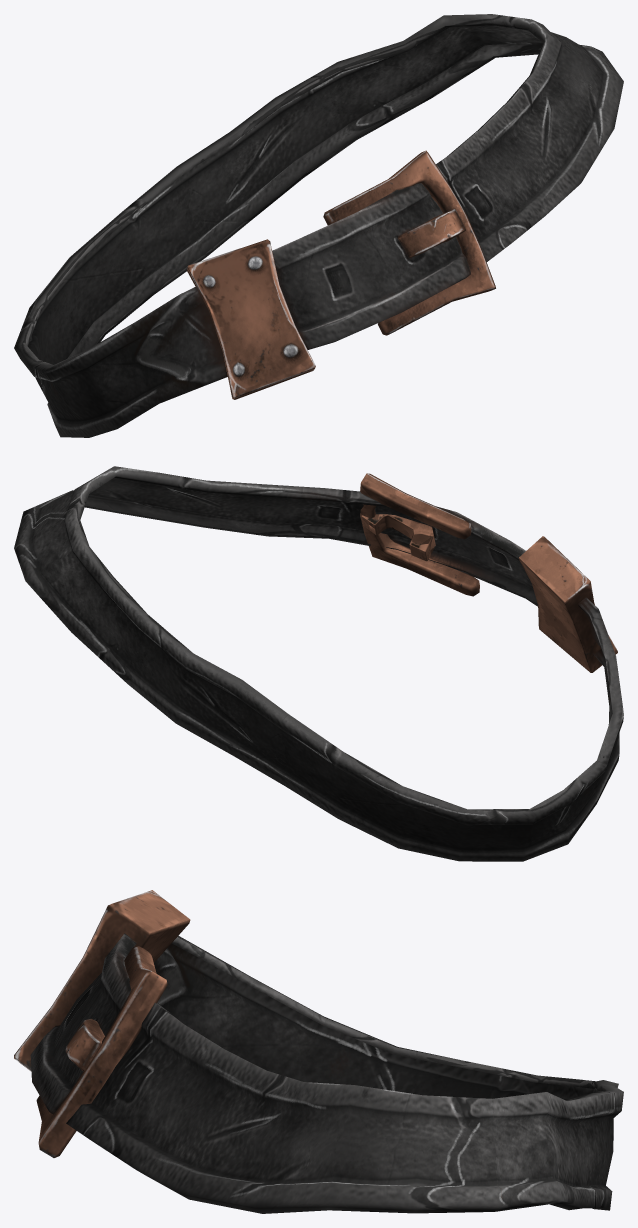
The model's file is sm_human_heodedna_chest_add.gltf.
3 renders of one model, top to bottom at view 1: azimuth 30°, elevation 25°; view 2: azimuth 150°, elevation 25°; view 3: azimuth 270°, elevation 25°, orthographic. The views are drawn at different scales.
Visible parts, largest first — view 1: sm_human_heodedna_chest; view 2: sm_human_heodedna_chest; view 3: sm_human_heodedna_chest.
Boxes of the visible parts, bbox=[...] form: sm_human_heodedna_chest: bbox=[14, 14, 623, 437]; sm_human_heodedna_chest: bbox=[14, 466, 623, 861]; sm_human_heodedna_chest: bbox=[14, 890, 623, 1213].
Bounding box in the file's own units: 58.15 × 27.08 × 37.76.
Materials: 1 (1 with a texture image).
